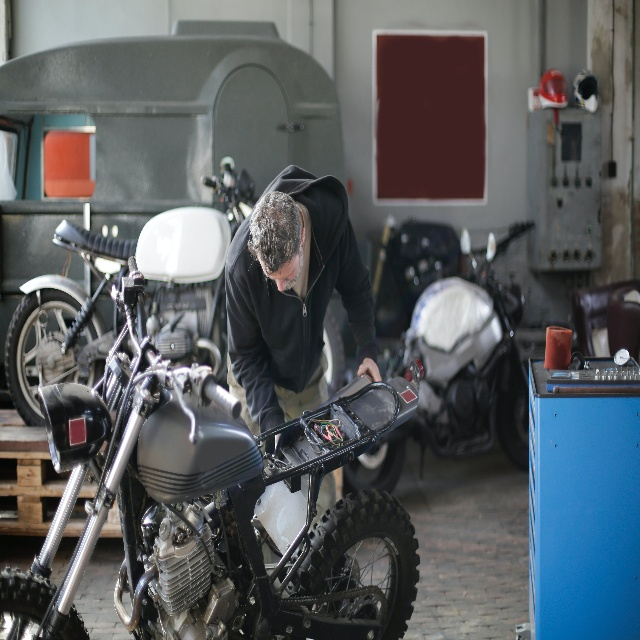Sin_guantes: (358, 356, 379, 385)
